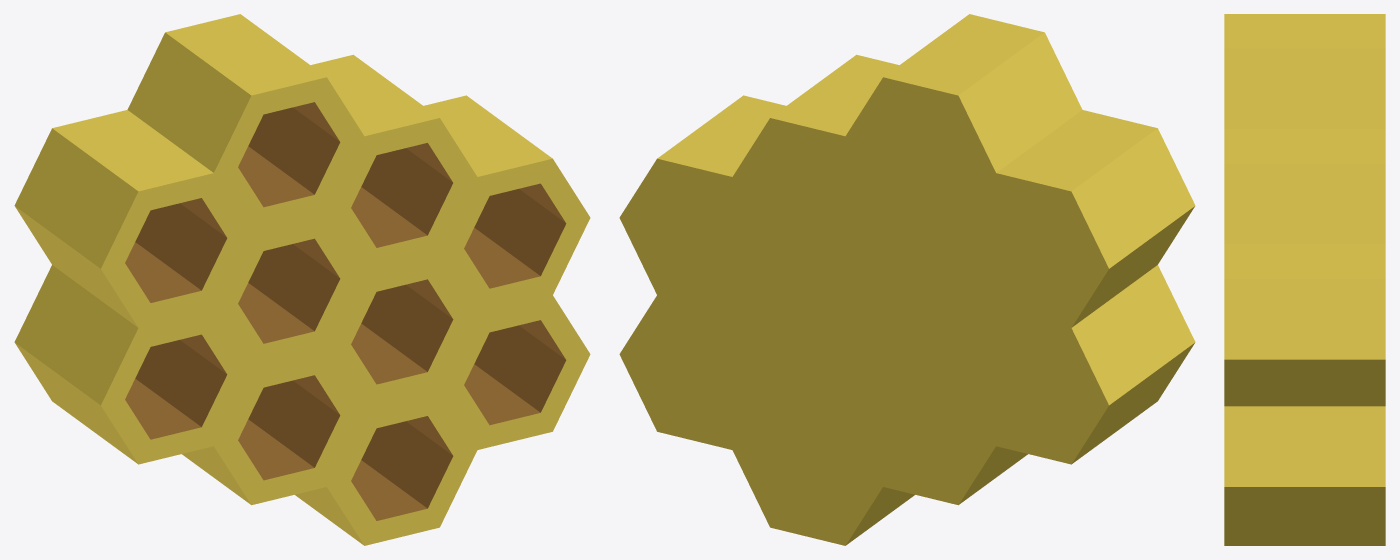
Rendered from Panal_TecnicalStackIsland.glb.
The picture shows the model from 3 angles, left to right: view 1: azimuth 30°, elevation 25°; view 2: azimuth 150°, elevation 25°; view 3: azimuth 270°, elevation 25°; orthographic projection. The views are drawn at different scales.
Visible parts, largest first — view 1: Panal; view 2: Panal; view 3: Panal.
Part boxes in pixels (x1,y1,x2,y2): Panal: (14,14,590,545); Panal: (619,14,1195,545); Panal: (1224,14,1385,545).
Size of the model in its own units: 1.27 by 1.18 by 0.3882.
Materials: 1 (1 with a texture image).
